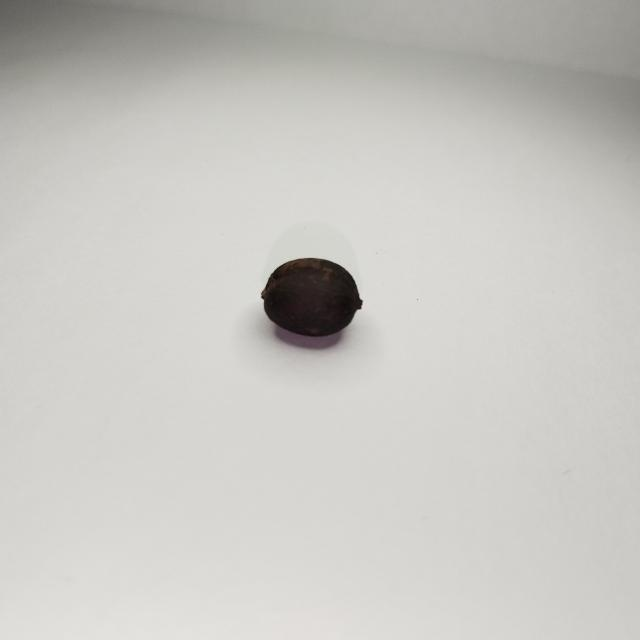Danado: (261, 258, 362, 340)
